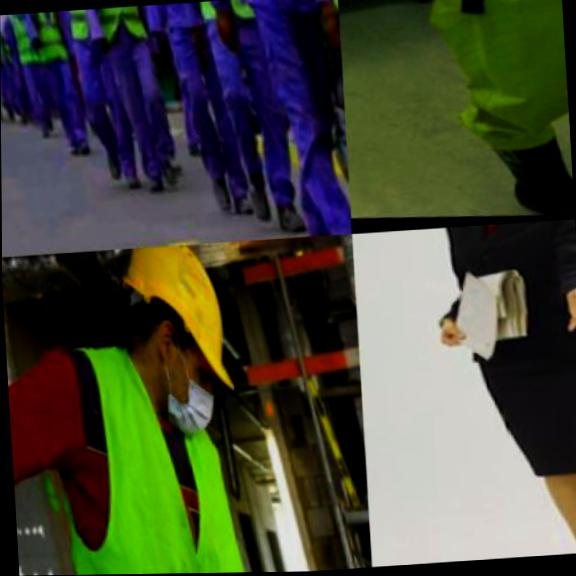safety_vest: (5, 327, 278, 576), (339, 0, 571, 174), (72, 5, 142, 52), (12, 11, 62, 74), (167, 0, 248, 36), (0, 13, 31, 73), (42, 9, 88, 46)
